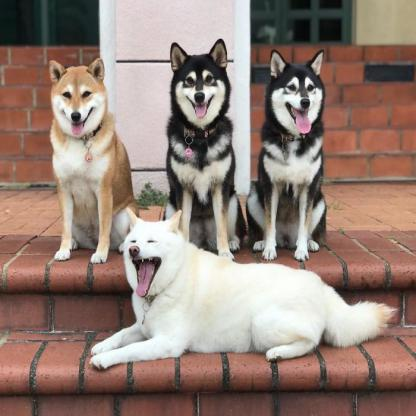dog: (91, 207, 397, 369), (42, 55, 140, 265), (164, 38, 247, 260), (244, 50, 330, 262)
